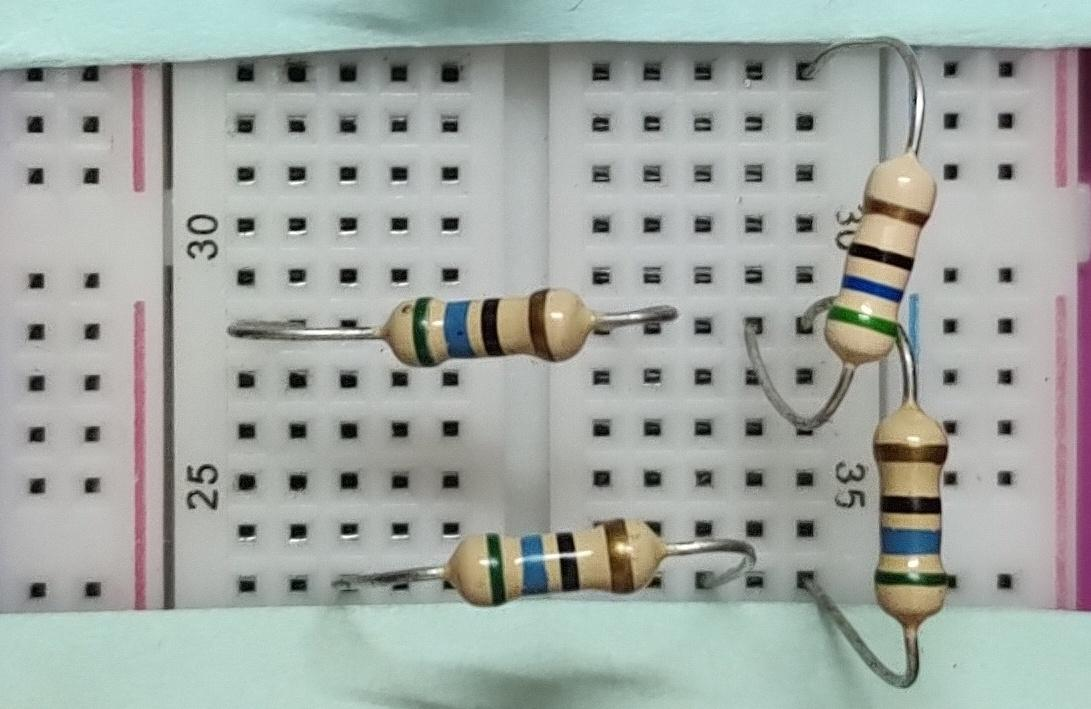resistor: (813, 146, 941, 370), (424, 523, 684, 614), (863, 403, 958, 623), (370, 285, 602, 366)
